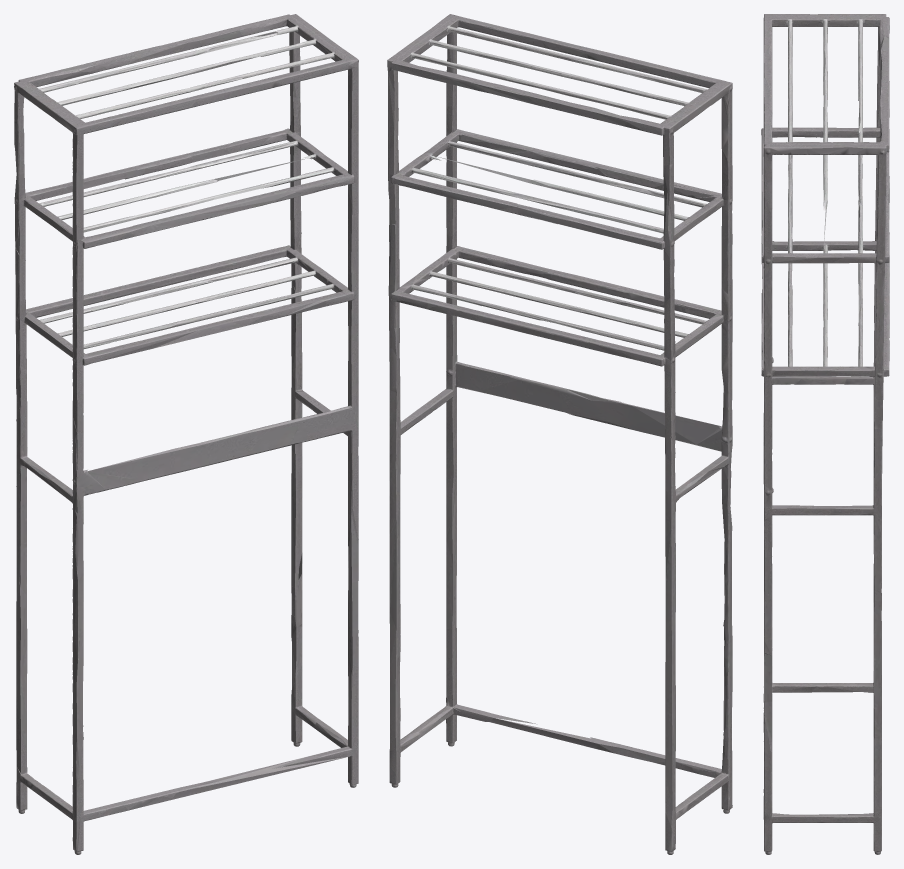
Rendered from target-com-p-over-the-toilet-storage-brushed-nickel-metal-br-071084.glb.
The picture shows the model from 3 angles, left to right: view 1: azimuth 30°, elevation 25°; view 2: azimuth 150°, elevation 25°; view 3: azimuth 270°, elevation 25°; orthographic projection. The views are drawn at different scales.
Parts seen in each view (by area): view 1: Mesh_0; view 2: Mesh_0; view 3: Mesh_0.
Boxes of the visible parts, <box> form: Mesh_0: <box>14,14,358,854</box>; Mesh_0: <box>387,14,732,854</box>; Mesh_0: <box>761,14,889,854</box>.
Bounding box in the file's own units: 0.7777 × 1.9 × 0.3121.
1 material, 1 textured.
